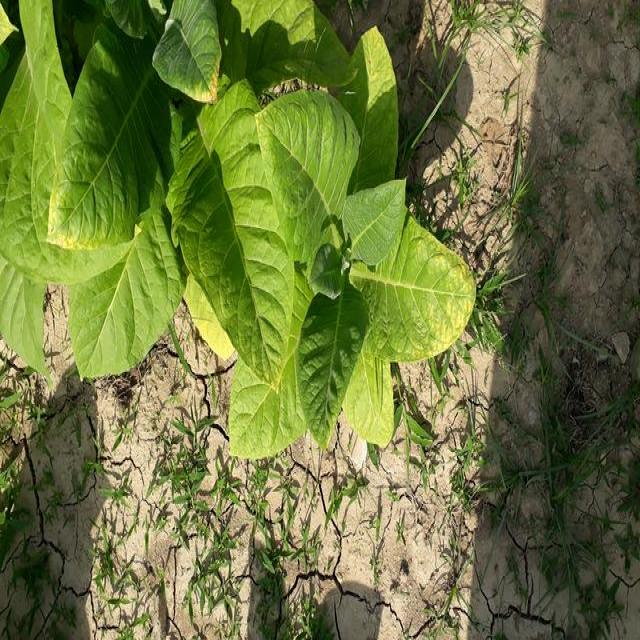crop: (0, 0, 469, 448)
